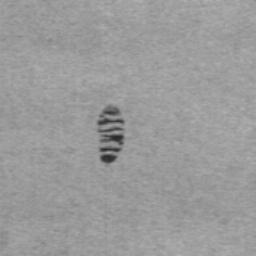Secondary rust skin: (98, 104, 124, 163)
